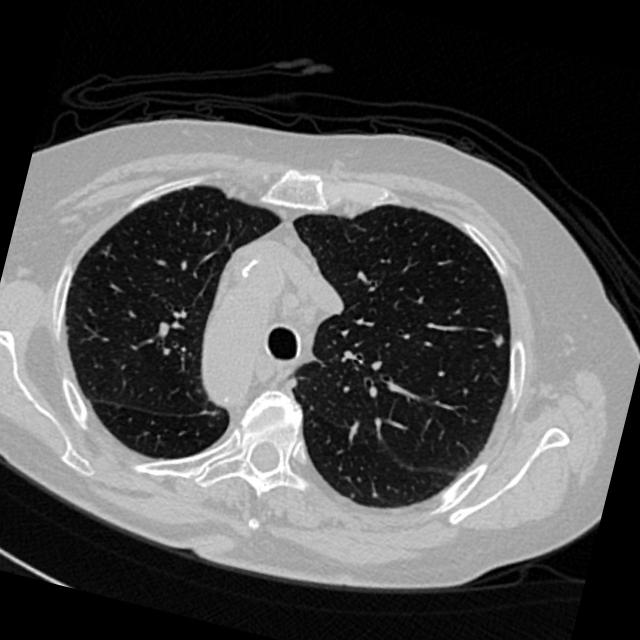nodule: (485, 323, 515, 353)
